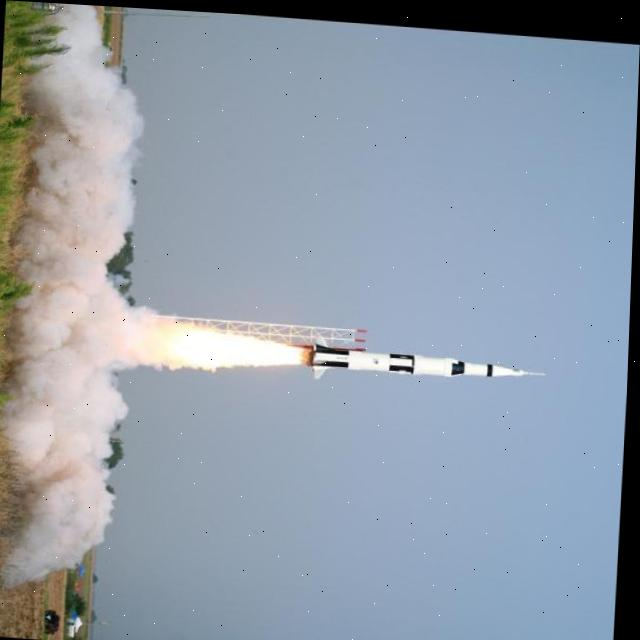missile: (309, 338, 550, 379)
